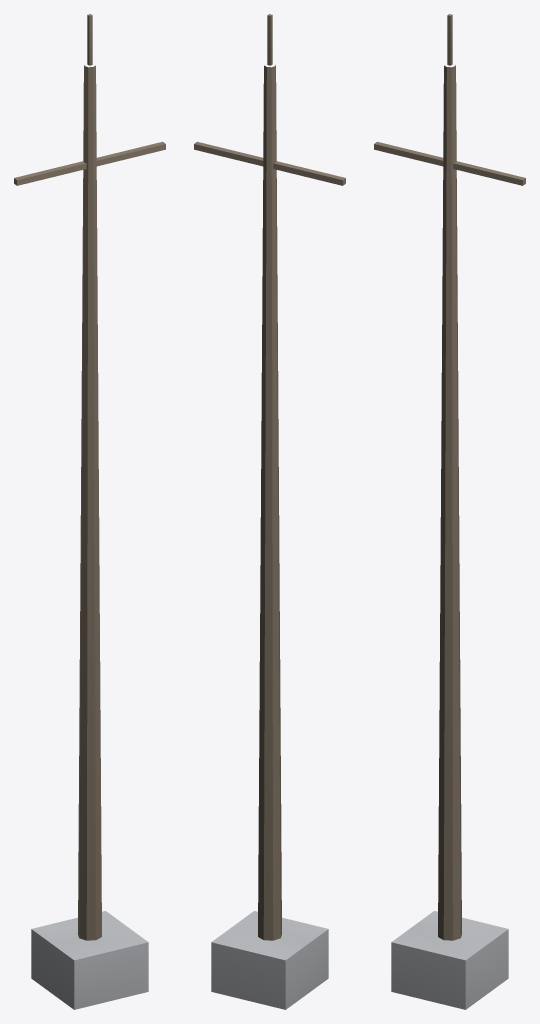
The model's file is sg_flagpole.glb.
3 renders of one model, left to right at view 1: azimuth 30°, elevation 25°; view 2: azimuth 150°, elevation 25°; view 3: azimuth 330°, elevation 25°, orthographic.
Parts seen in each view (by area): view 1: sg_flagpole_SG_Joinery, sg_flagpole_SG_Stone; view 2: sg_flagpole_SG_Joinery, sg_flagpole_SG_Stone; view 3: sg_flagpole_SG_Joinery, sg_flagpole_SG_Stone.
Boxes of the visible parts, x1=… form: sg_flagpole_SG_Joinery: x1=14, y1=14, x2=165, y2=940; sg_flagpole_SG_Stone: x1=31, y1=911, x2=148, y2=1009; sg_flagpole_SG_Joinery: x1=194, y1=14, x2=345, y2=940; sg_flagpole_SG_Stone: x1=211, y1=911, x2=328, y2=1009; sg_flagpole_SG_Joinery: x1=374, y1=14, x2=525, y2=940; sg_flagpole_SG_Stone: x1=391, y1=911, x2=508, y2=1009.
Bounding box in the file's own units: 2.2 × 13.7 × 1.1.
